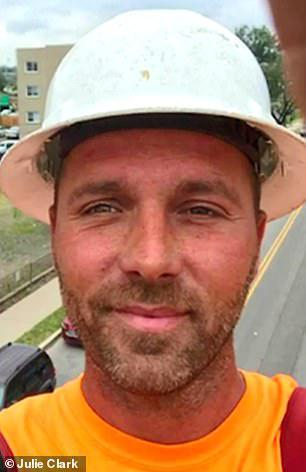helmet: (1, 10, 302, 223)
